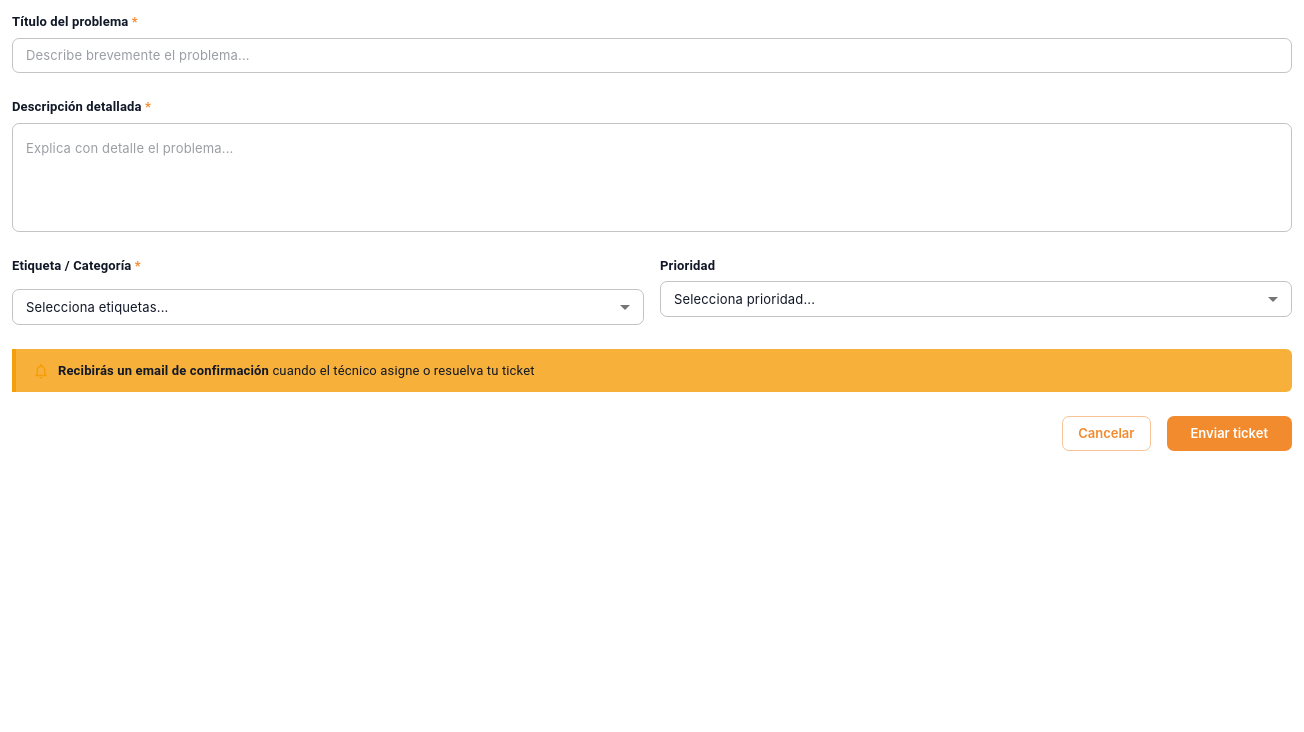
Test: CreateTicketForm › muestra error si la descripción es demasiado corta
Type "corta" into the text box with placeholder "Explica con detalle el problema...". click: (652, 177)
box: top-left (26, 139), bottom-right (1278, 215)
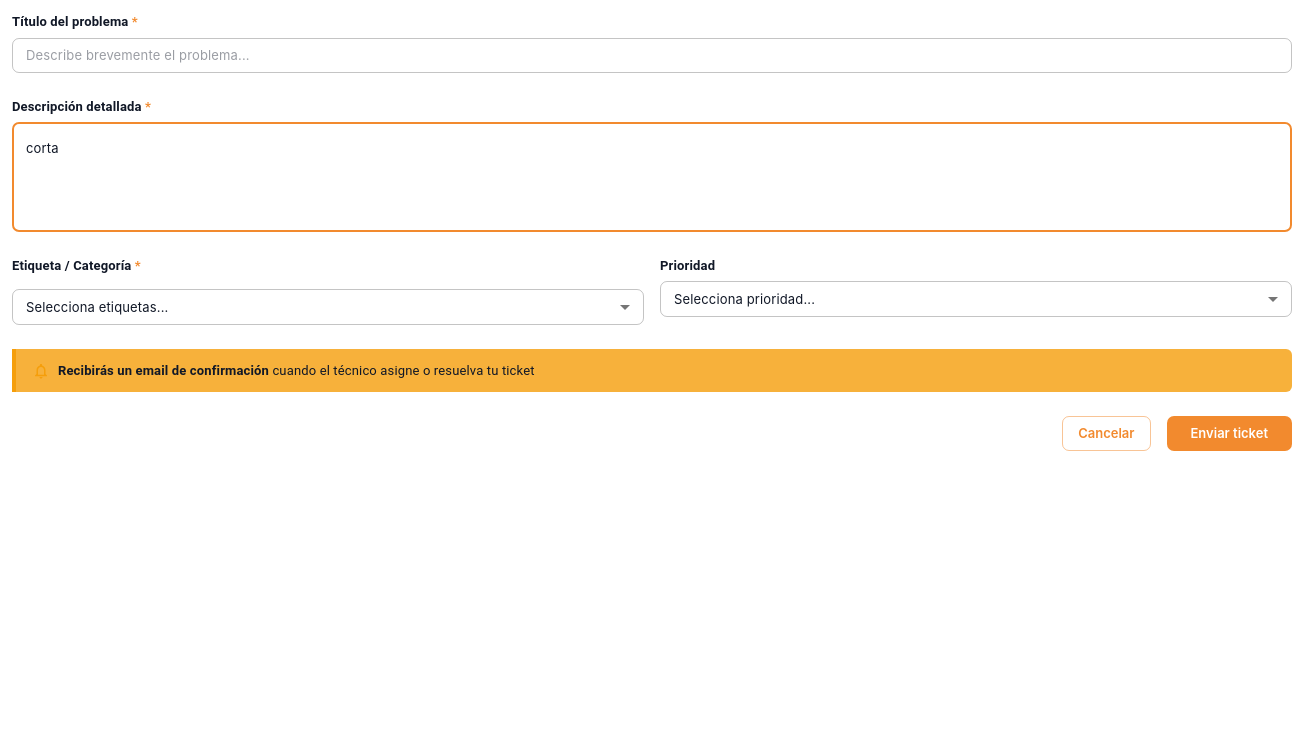
Click the button "Enviar ticket". click: click(1229, 434)
box: top-left (1166, 416), bottom-right (1292, 451)
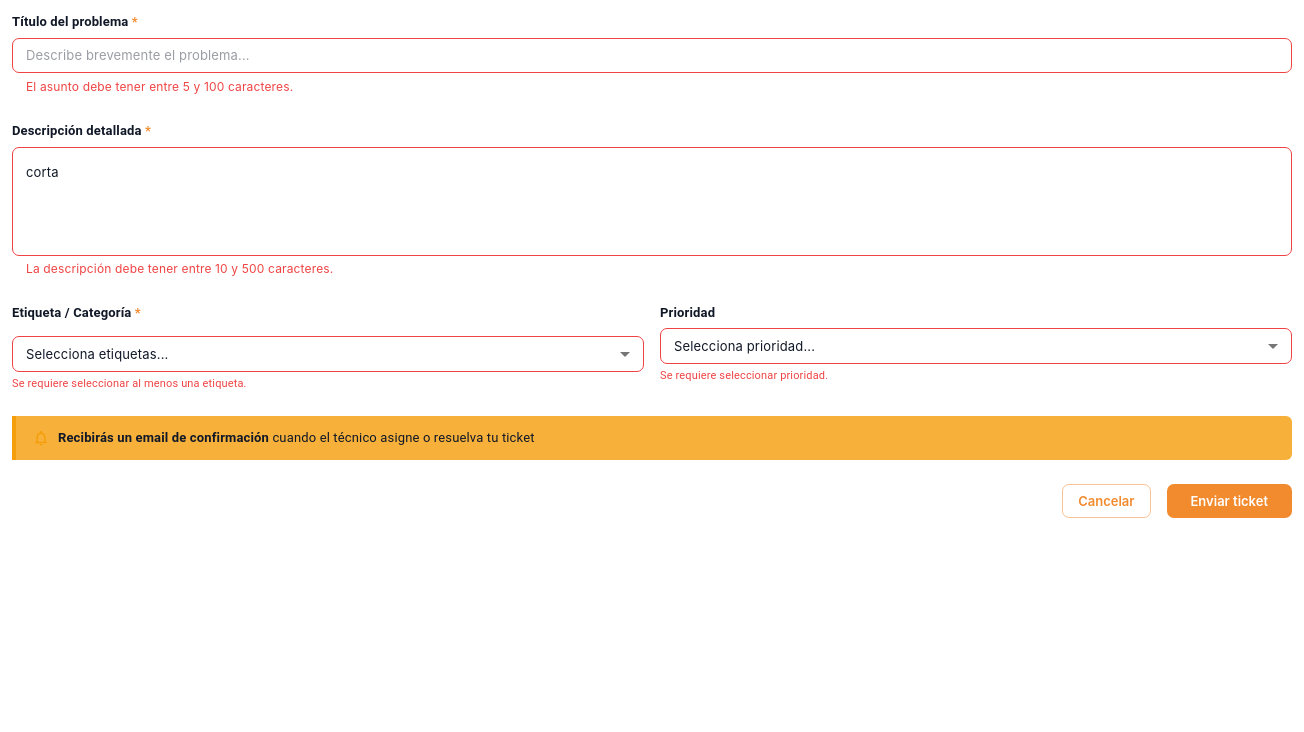
Expected: the text "La descripción debe tener entre 10 y 500 caracteres." is shown, top-left (26, 261), bottom-right (333, 276)
